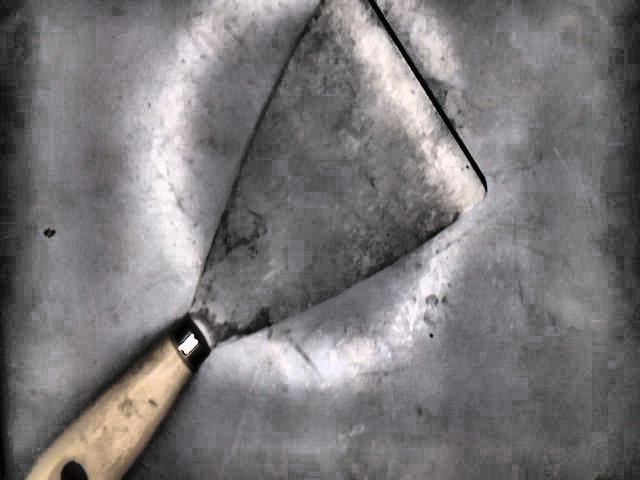Almennt: (16, 0, 496, 480)
